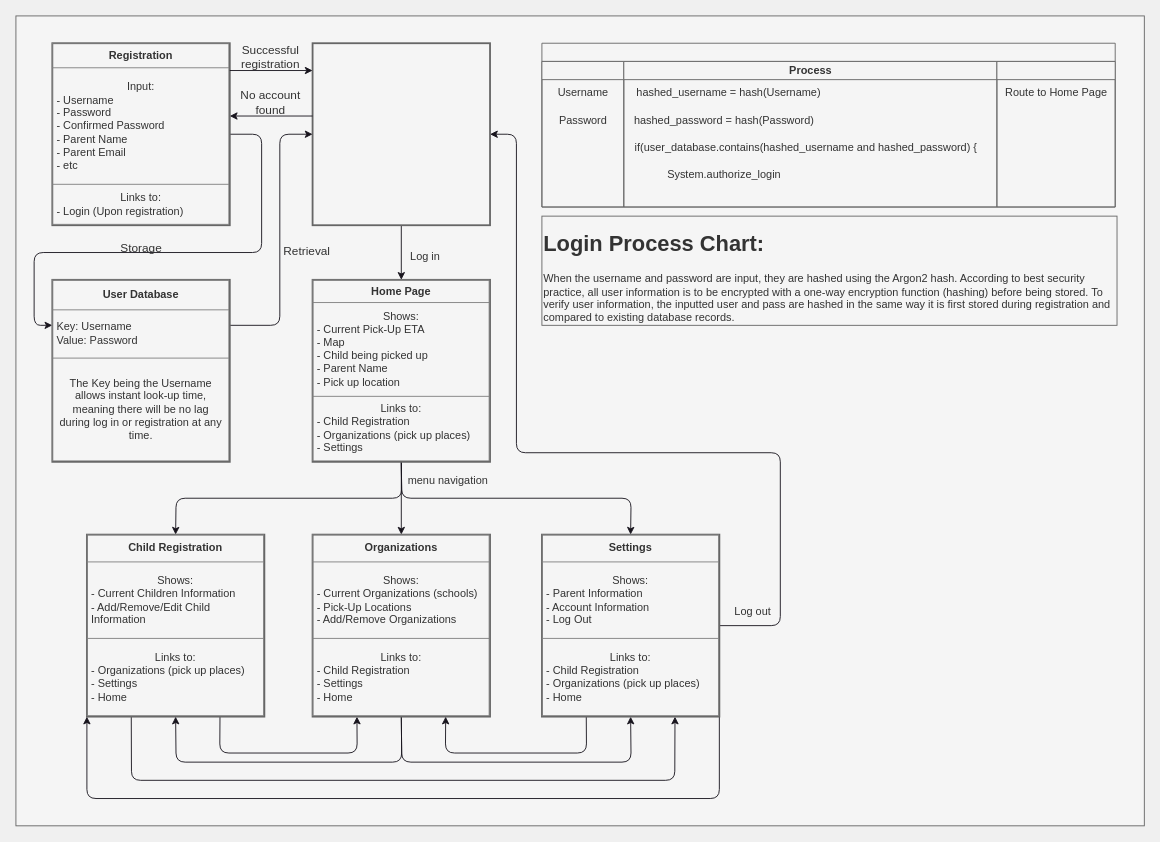
Some shapes in this 1160 by 842 pixel diagram are drawn without their labels. Here are the shapes that lost their labels. From the top down, the box of each, then its label:
(311, 42, 490, 226): Login Input: - Username - Password Links to: - Home (upon authorization)
(541, 61, 624, 207): Input
(541, 42, 1115, 207): Login Process Chart
(996, 61, 1115, 207): Ouput
